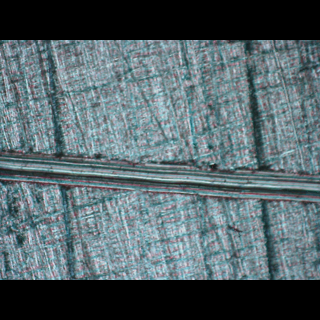d: (0, 141, 318, 205)
